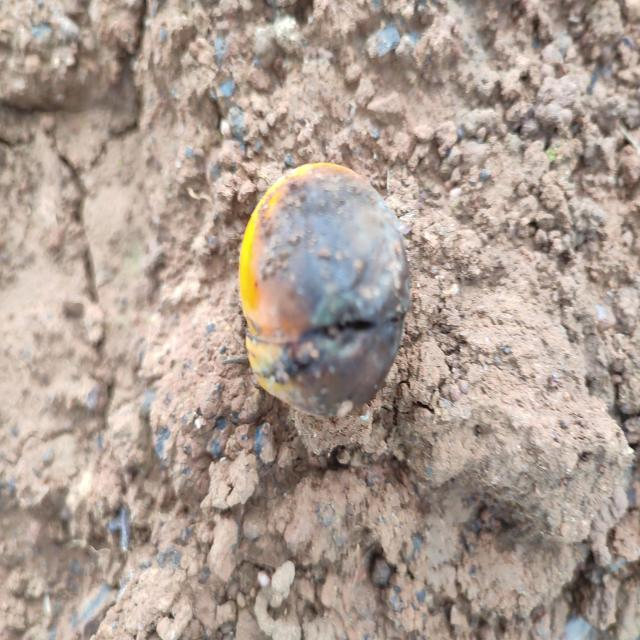damaged: (237, 162, 412, 422)
